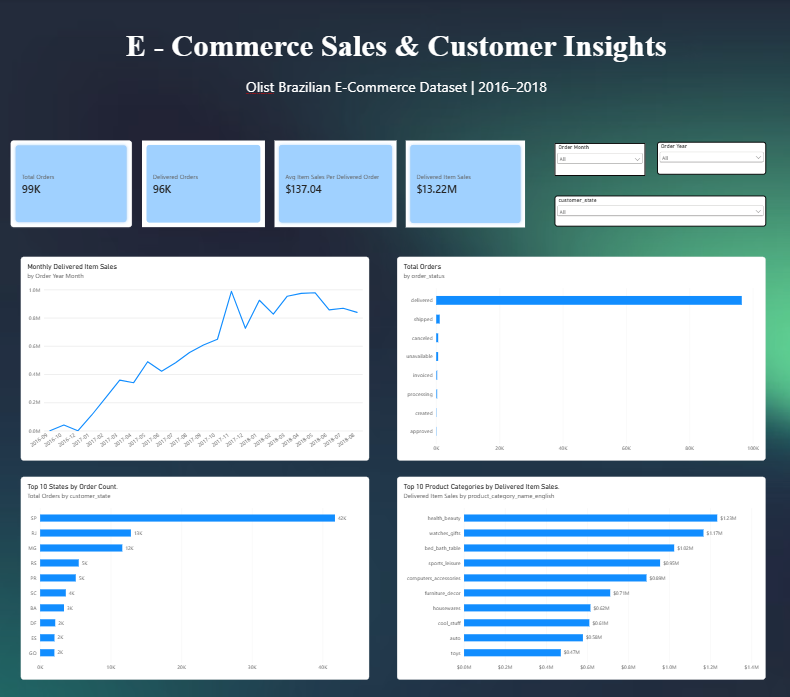

The dashboard page shown, as its layout file describes it:
{"tool":"powerbi","page":{"name":"Page 1","canvas":[2200,1956],"ordinal":0},"visuals":[{"type":"cardVisual","fields":{"Data":["cleaned_orders.Total Orders"]},"box":[87.5,372.5,317.5,227.5],"z":0},{"type":"cardVisual","fields":{"Data":["cleaned_orders.Delivered Orders"]},"box":[432.5,372.5,322.5,227.5],"z":1000},{"type":"cardVisual","fields":{"Data":["cleaned_orders.Delivered Item Sales"]},"box":[1125,372.5,313.3,228.3],"z":2000},{"type":"cardVisual","fields":{"Data":["cleaned_orders.Avg Item Sales Per Delivered Order"]},"box":[780,372.5,320,227.5],"z":3000},{"type":"lineChart","fields":{"Category":["cleaned_orders.Order Year Month"],"Y":["cleaned_orders.Monthly Delivered Item Sales"]},"box":[114.7,678.4,913.8,534.5],"z":4000},{"type":"clusteredBarChart","fields":{"Category":["cleaned_orders.order_status"],"Y":["cleaned_orders.Total Orders"]},"box":[1101.2,678.4,966.5,534.5],"z":5000},{"type":"clusteredBarChart","title":"Top 10 States by Order Count.","fields":{"Category":["olist_customers_dataset.customer_state"],"Y":["cleaned_orders.Total Orders"]},"box":[114.7,1255.3,913.3,531.7],"z":6000},{"type":"clusteredBarChart","title":"Top 10 Product Categories by Delivered Item Sales.","fields":{"Category":["product_category_name_translation.product_category_name_english"],"Y":["cleaned_orders.Delivered Item Sales"]},"box":[1101.2,1255.3,966.7,531.7],"z":7000},{"type":"slicer","fields":{"Values":["cleaned_orders.Order Month"]},"box":[1514.3,378.6,238.3,86.7],"z":8000},{"type":"slicer","fields":{"Values":["cleaned_orders.Order Year"]},"box":[1781.4,377.1,286.7,86.7],"z":9000},{"type":"slicer","fields":{"Values":["olist_customers_dataset.customer_state"]},"box":[1514.2,517.8,555,81.7],"z":10000},{"type":"textbox","box":[0,78.7,2199.2,249.1],"z":11000}]}

Visuals, with their boxes in screenshot pixels (x1, y1, x2, y2), scaled from the page's 2200x1956 canvas onto the 790x697 screenshot:
cardVisual - cleaned_orders.Total Orders: x1=31 y1=133 x2=145 y2=214
cardVisual - cleaned_orders.Delivered Orders: x1=155 y1=133 x2=271 y2=214
cardVisual - cleaned_orders.Delivered Item Sales: x1=404 y1=133 x2=516 y2=214
cardVisual - cleaned_orders.Avg Item Sales Per Delivered Order: x1=280 y1=133 x2=395 y2=214
lineChart - cleaned_orders.Order Year Month x cleaned_orders.Monthly Delivered Item Sales: x1=41 y1=242 x2=369 y2=432
clusteredBarChart - cleaned_orders.order_status x cleaned_orders.Total Orders: x1=395 y1=242 x2=742 y2=432
"Top 10 States by Order Count." clusteredBarChart: x1=41 y1=447 x2=369 y2=637
"Top 10 Product Categories by Delivered Item Sales." clusteredBarChart: x1=395 y1=447 x2=743 y2=637
slicer - cleaned_orders.Order Month: x1=544 y1=135 x2=629 y2=166
slicer - cleaned_orders.Order Year: x1=640 y1=134 x2=743 y2=165
slicer - olist_customers_dataset.customer_state: x1=544 y1=185 x2=743 y2=214
textbox: x1=0 y1=28 x2=789 y2=117
